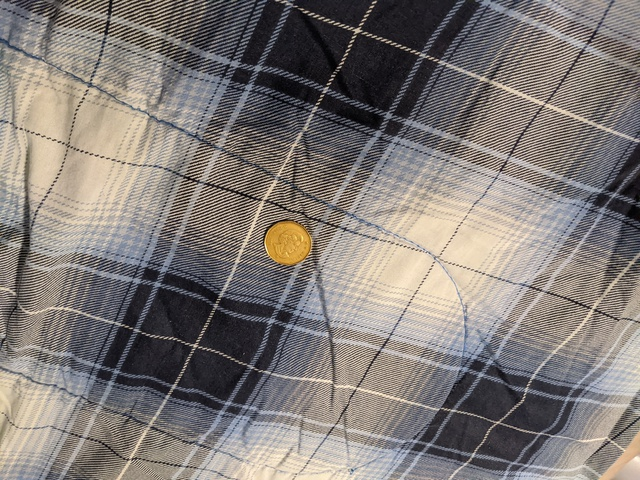loonie: (257, 221, 320, 266)
